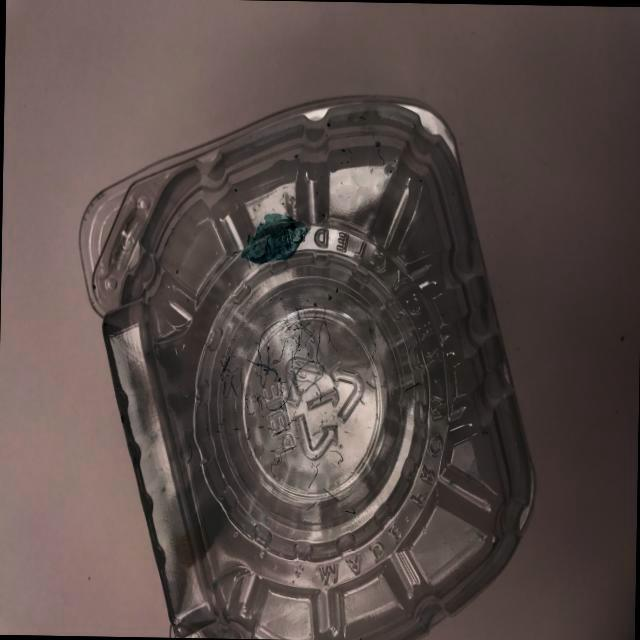plastic: (45, 0, 562, 640)
